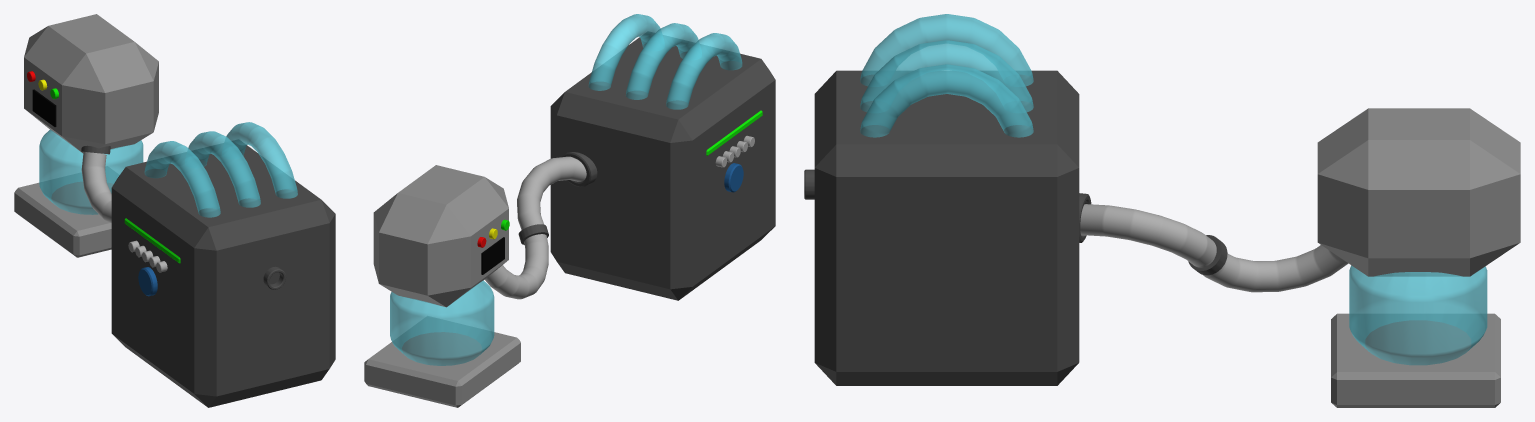
Rendered from LifeSupportSystem.fbx.
The picture shows the model from 3 angles, left to right: view 1: azimuth 30°, elevation 25°; view 2: azimuth 150°, elevation 25°; view 3: azimuth 270°, elevation 25°; orthographic projection. The views are drawn at different scales.
Visible parts, largest first — view 1: pCube6; view 2: pCube6; view 3: pCube6.
Part boxes in pixels (x1,y1,x2,y2): pCube6: (14, 14, 335, 407); pCube6: (364, 14, 775, 407); pCube6: (804, 14, 1520, 407).
Size of the model in its own units: 1.75 by 2.26 by 4.78.
